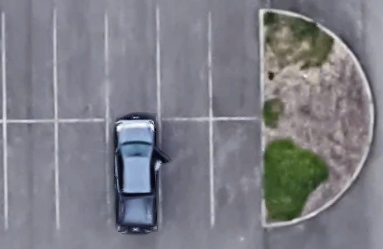Occupied: (108, 119, 160, 229)
Vacant: (54, 9, 108, 120), (2, 8, 55, 121), (157, 9, 211, 119), (4, 120, 58, 228), (55, 121, 109, 229), (106, 9, 158, 119), (210, 10, 262, 118), (159, 120, 211, 228), (210, 119, 262, 227)
